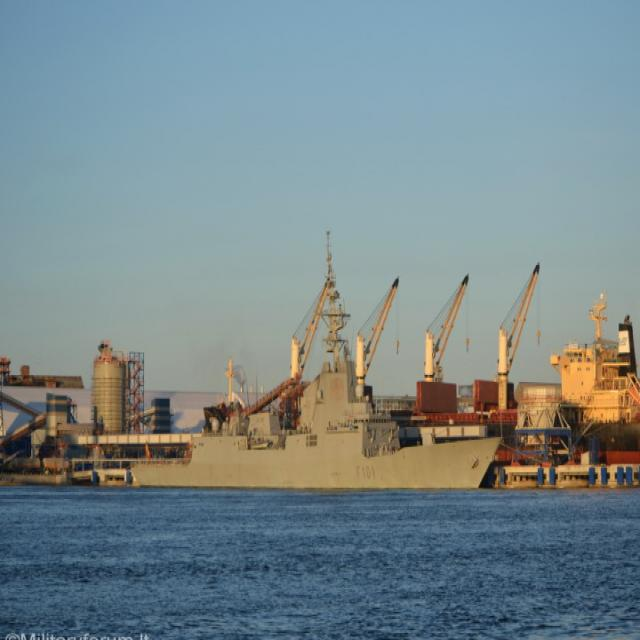Fragata: (125, 276, 508, 499)
